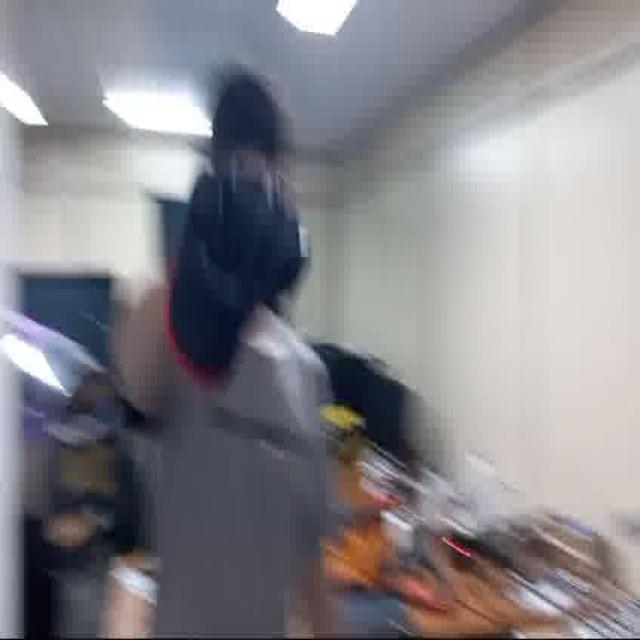Gloves: (165, 170, 308, 392)
